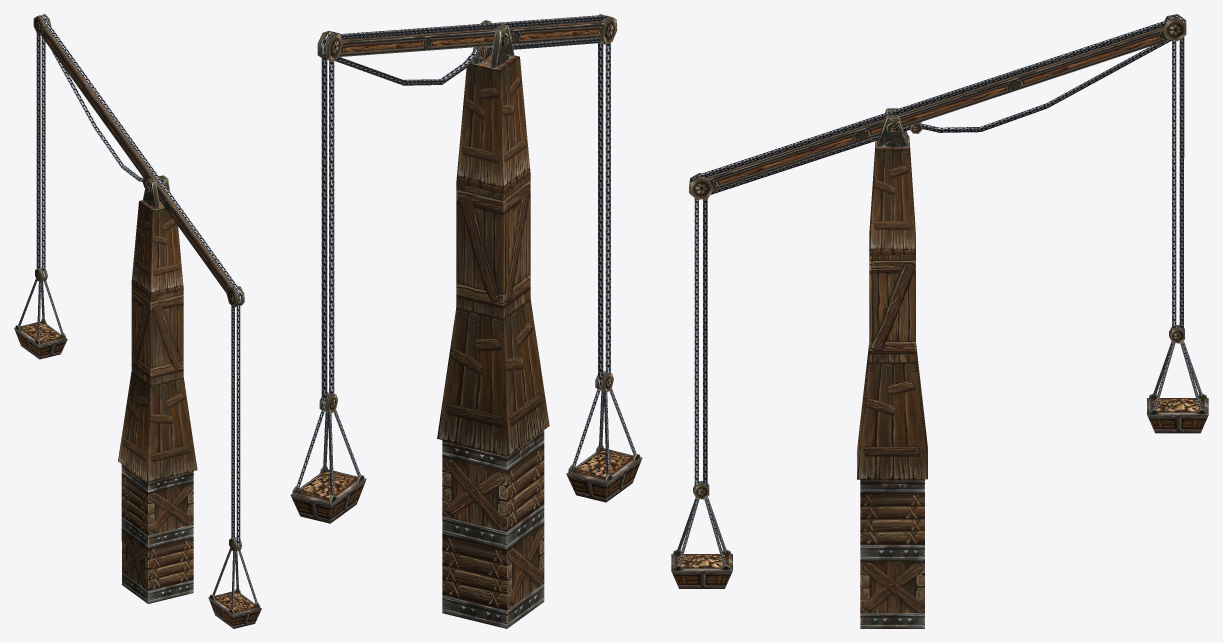
Rendered from loc1_01.glb.
The picture shows the model from 3 angles, left to right: view 1: azimuth 30°, elevation 25°; view 2: azimuth 150°, elevation 25°; view 3: azimuth 270°, elevation 25°; orthographic projection. The views are drawn at different scales.
Visible parts, largest first — view 1: loc1_01; view 2: loc1_01; view 3: loc1_01.
Boxes of the visible parts, left/top/right/bottom form: loc1_01: left=14, top=14, right=261, bottom=628; loc1_01: left=290, top=14, right=642, bottom=628; loc1_01: left=671, top=14, right=1208, bottom=628.
Size of the model in its own units: 3.32 by 30.75 by 25.01.
1 material, 1 textured.
